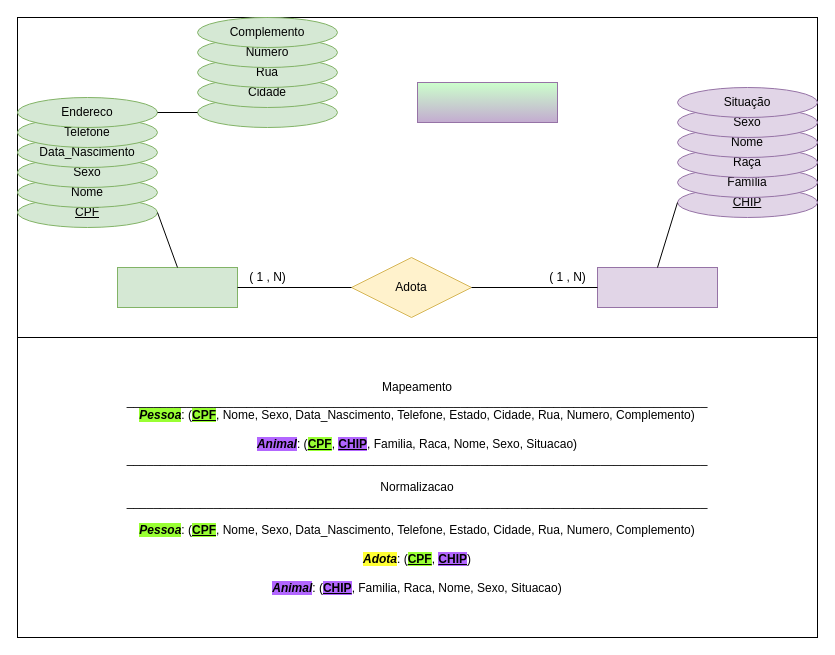
This 835x655 diagram has some shape labels left out. Each missing label, with the box of its shape:
Animal: (596, 266, 718, 308)
Estado: (196, 96, 338, 128)
ONG ResGatinhos: (416, 82, 558, 122)
Pessoa: (116, 266, 238, 308)
